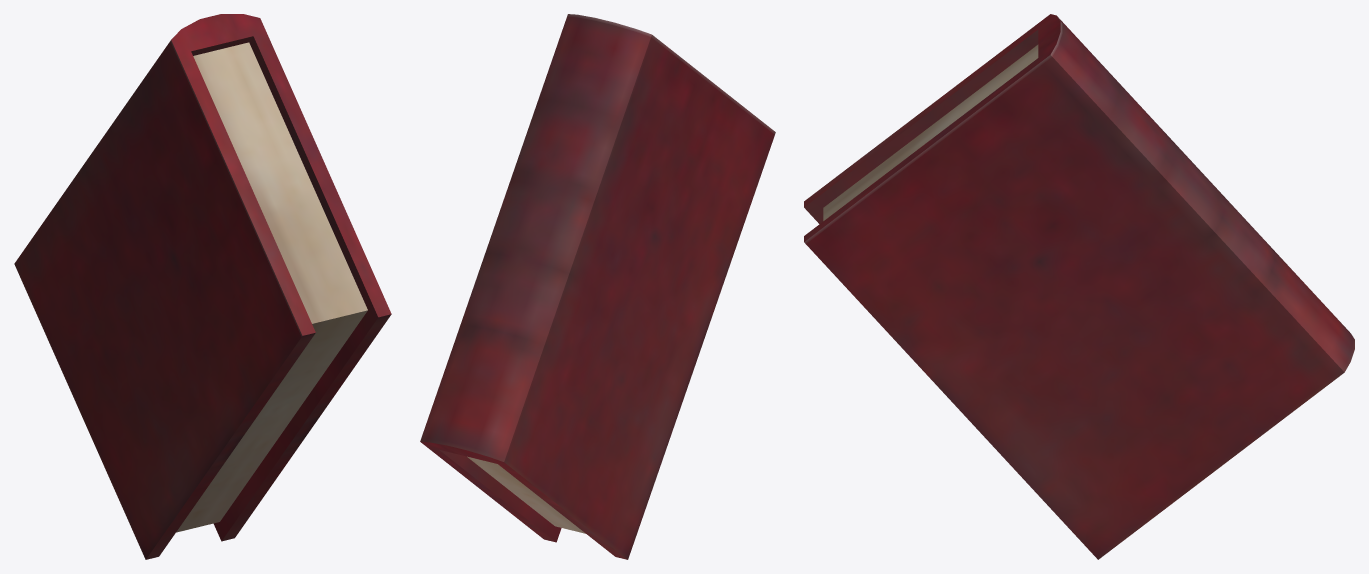
The model's file is book-04.fbx.
3 renders of one model, left to right at view 1: azimuth 30°, elevation 25°; view 2: azimuth 150°, elevation 25°; view 3: azimuth 270°, elevation 25°, orthographic. The views are drawn at different scales.
Visible parts, largest first — view 1: Cube.258; view 2: Cube.258; view 3: Cube.258.
Boxes of the visible parts, x1,y1,x2,y2 form: Cube.258: (14,14,391,559); Cube.258: (420,14,775,559); Cube.258: (804,14,1354,559).
Bounding box in the file's own units: 0.072 × 0.4222 × 0.4109.
